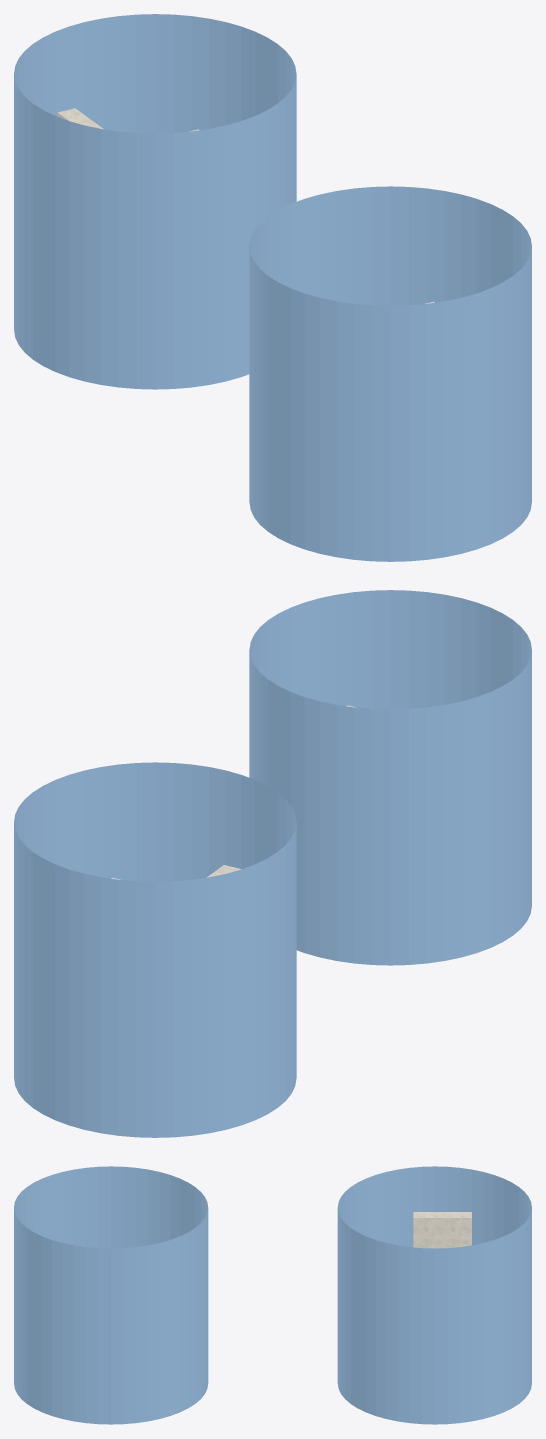
File: house_4.glb
The picture shows the model from 3 angles, top to bottom: view 1: azimuth 30°, elevation 25°; view 2: azimuth 150°, elevation 25°; view 3: azimuth 270°, elevation 25°; orthographic projection. The views are drawn at different scales.
Visible parts, largest first — view 1: house_4_fx_2, house_4_fx_1; view 2: house_4_fx_1, house_4_fx_2; view 3: house_4_fx_2, house_4_fx_1, house_4_lm_1.
Boxes of the visible parts, x1,y1,x2,y2 form: house_4_fx_2: [249, 186, 531, 561]; house_4_fx_1: [14, 14, 296, 389]; house_4_fx_1: [14, 762, 296, 1137]; house_4_fx_2: [249, 590, 531, 965]; house_4_fx_2: [14, 1166, 208, 1424]; house_4_fx_1: [337, 1166, 531, 1424]; house_4_lm_1: [413, 1212, 471, 1248].
Bounding box in the file's own units: 18 × 18 × 48.
24 materials, 13 textured.
